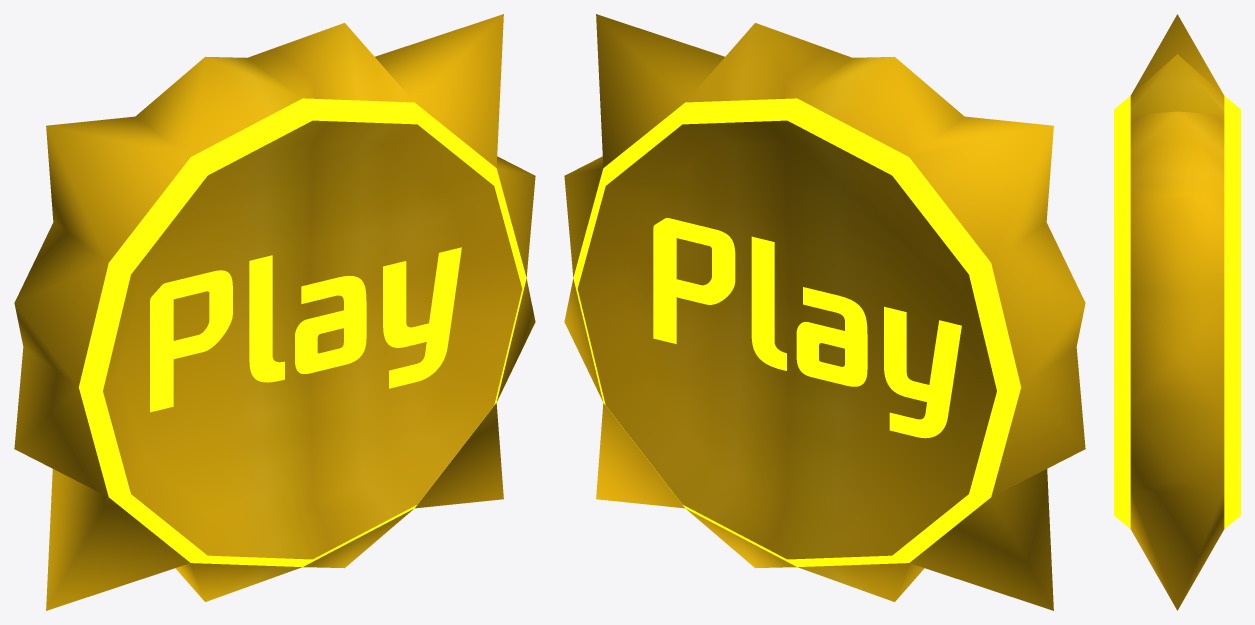
The model's file is startCoinFC.glb.
3 views of the same model, side by side, from view 1: azimuth 30°, elevation 25°; view 2: azimuth 150°, elevation 25°; view 3: azimuth 270°, elevation 25° (orthographic). The views are drawn at different scales.
Visible parts, largest first — view 1: FC Start Coin; view 2: FC Start Coin; view 3: FC Start Coin.
Part boxes in pixels (x1,y1,x2,y2): FC Start Coin: (14,14,535,610); FC Start Coin: (564,14,1085,610); FC Start Coin: (1114,14,1240,610).
Size of the model in its own units: 1.29 by 1.29 by 0.3227.
2 materials, 1 textured.
